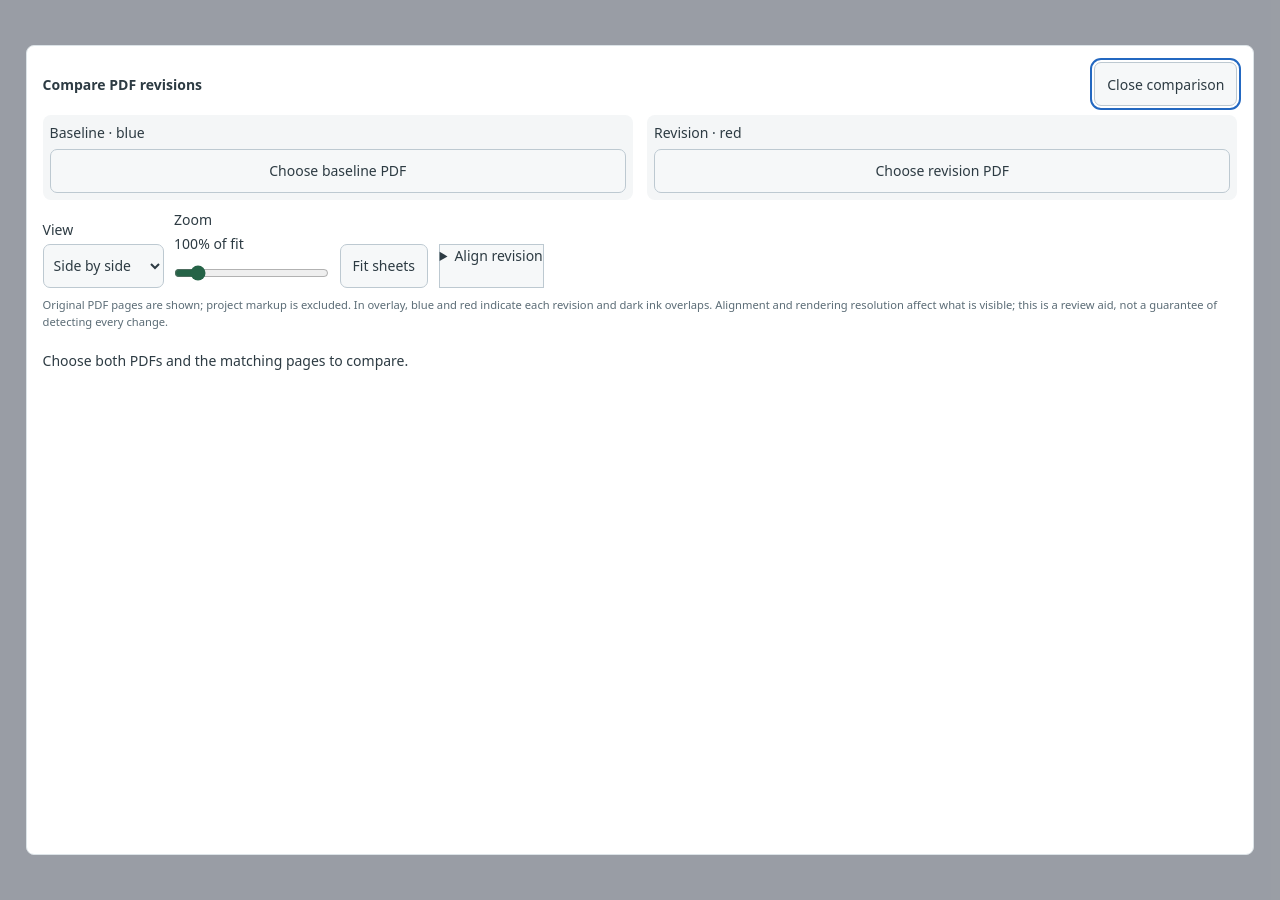
it: loading cancellation rejects late completion and leaves selected source files alone
Click the button "Choose baseline PDF".
click(338, 171)  # box [50,149,626,193]
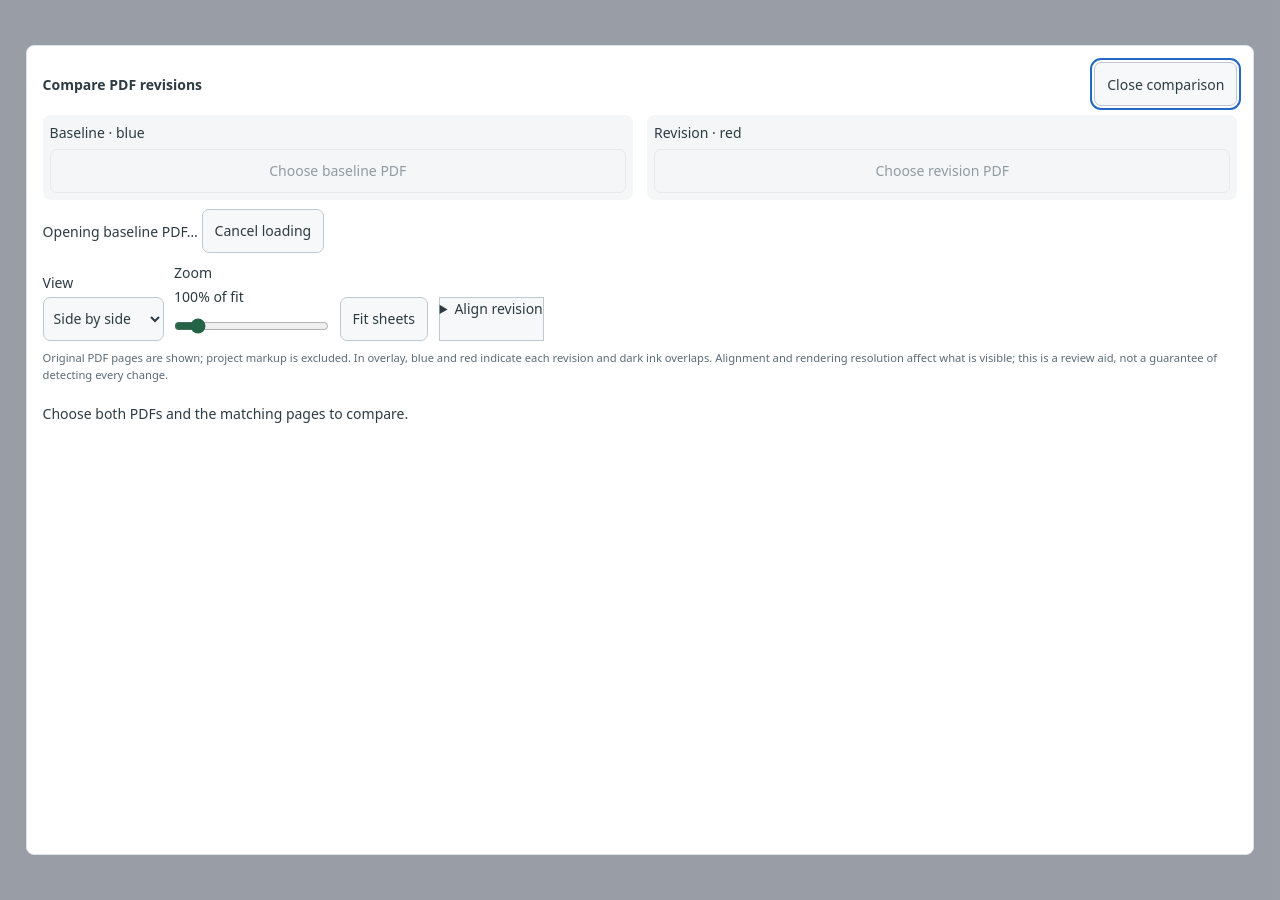
Click the button "Cancel loading".
click(263, 231)  # box [202,209,324,253]
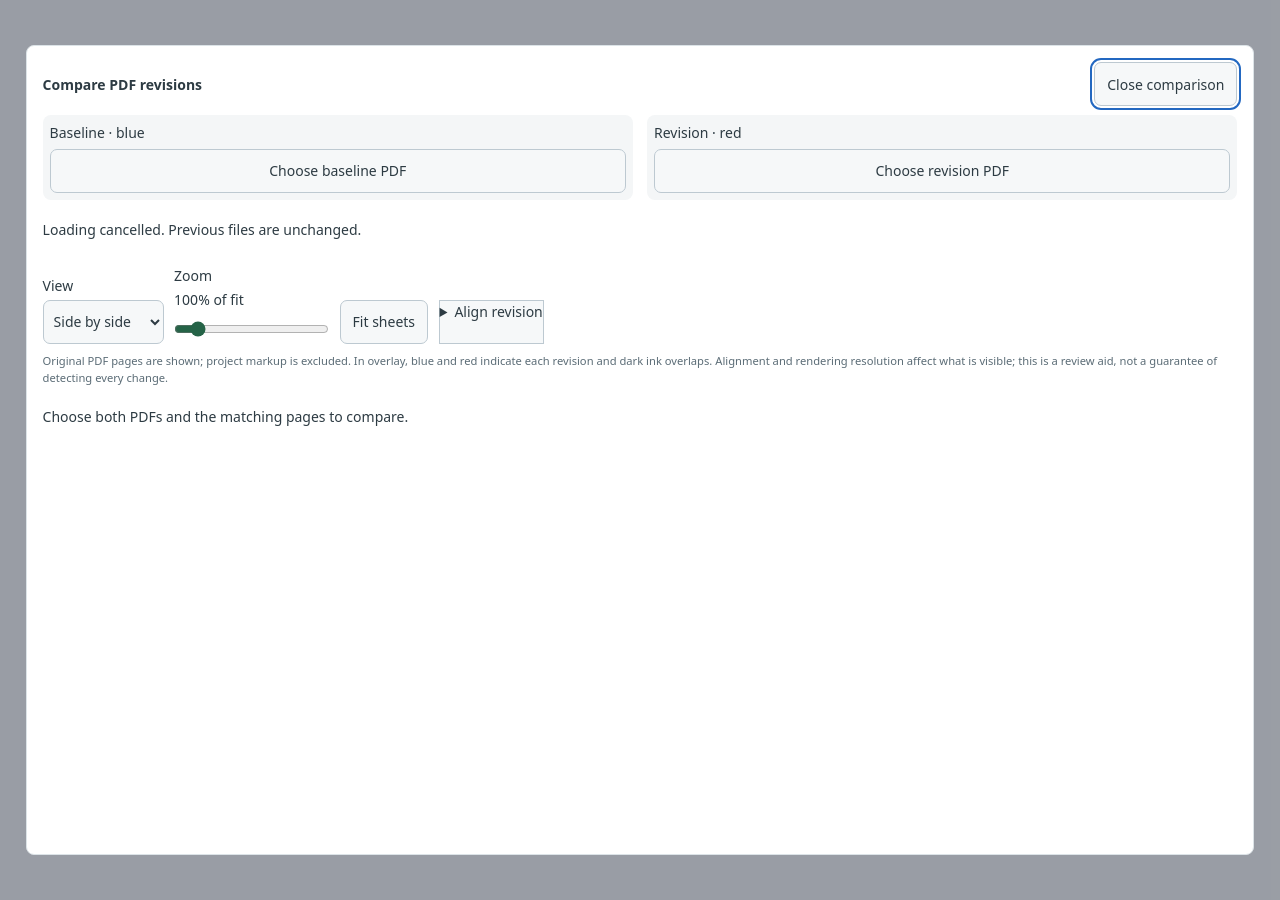
Check: the text "Loading cancelled. Previous files are unchanged." is shown, box [43,220,361,239]
